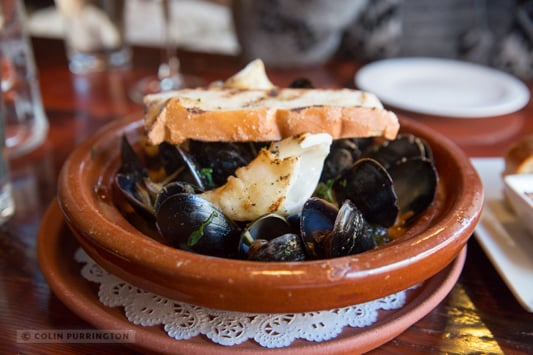pizza: (230, 1, 371, 70), (58, 1, 133, 125), (0, 1, 50, 168)
